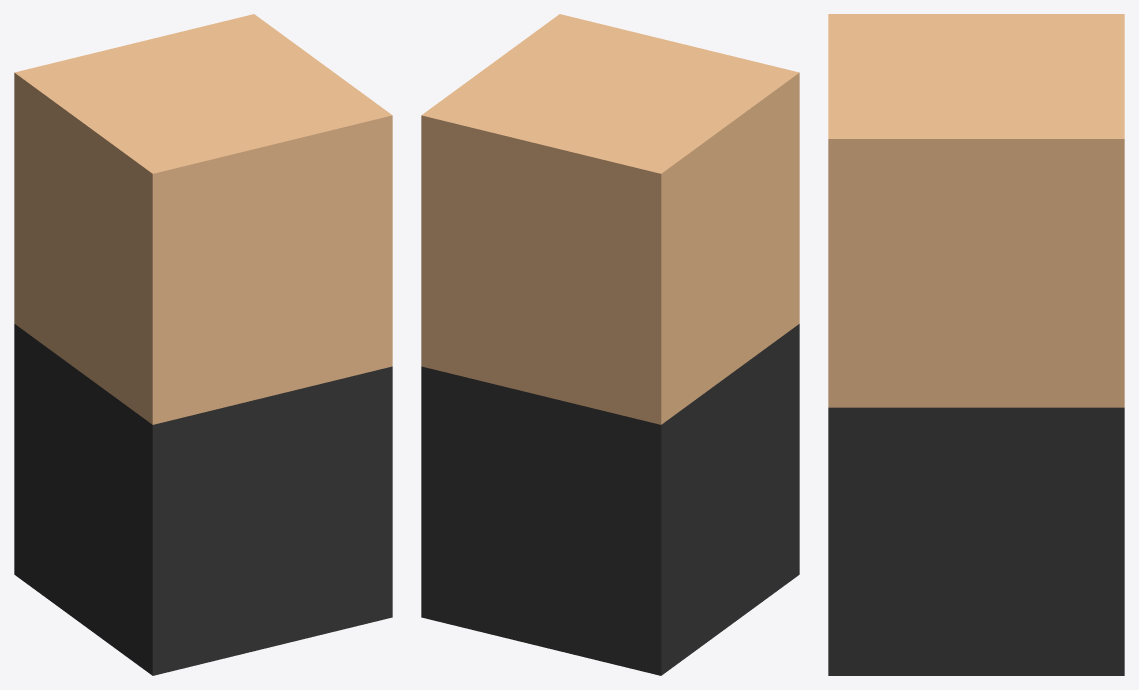
The model's file is Player_Sheep_RLeg.obj.
3 views of the same model, side by side, from view 1: azimuth 30°, elevation 25°; view 2: azimuth 150°, elevation 25°; view 3: azimuth 270°, elevation 25° (orthographic). The views are drawn at different scales.
Size of the model in its own units: 0.1 by 0.2 by 0.1.
1 material, 1 textured.
